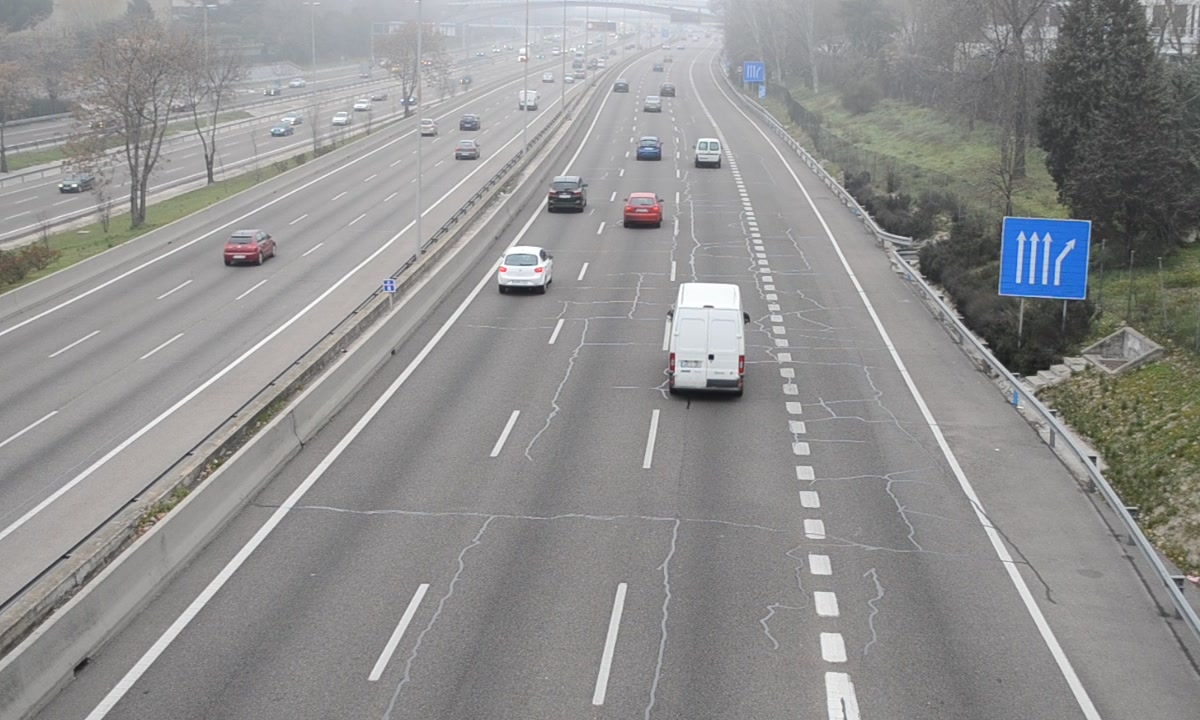car: (496, 247, 551, 289), (547, 175, 588, 215), (623, 192, 664, 230), (635, 135, 663, 163)
van: (670, 283, 746, 398), (694, 137, 724, 170)
